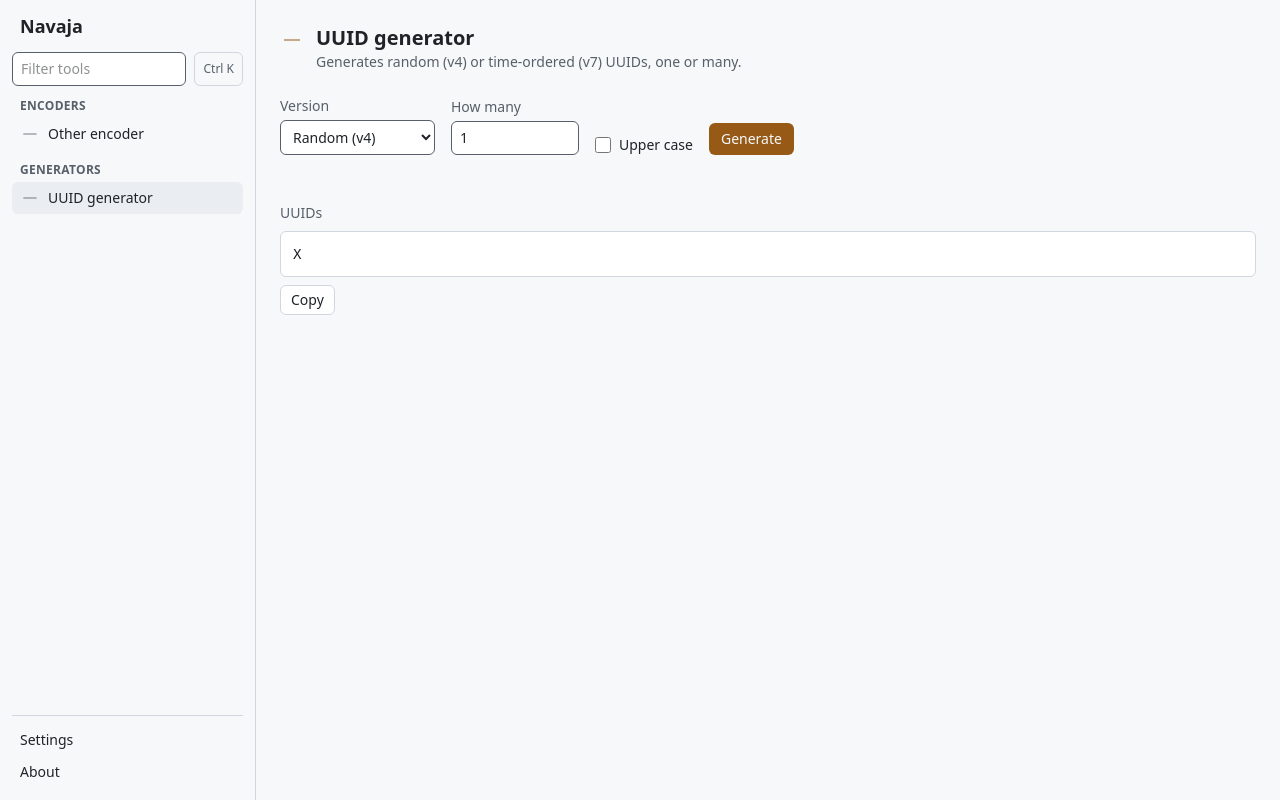
Test: shell › says so when a copy fails
Expected: the text "X" is shown, [280,231,1256,277]
Step 1. Click the button "Copy" → (307, 300), box [280,285,335,315]
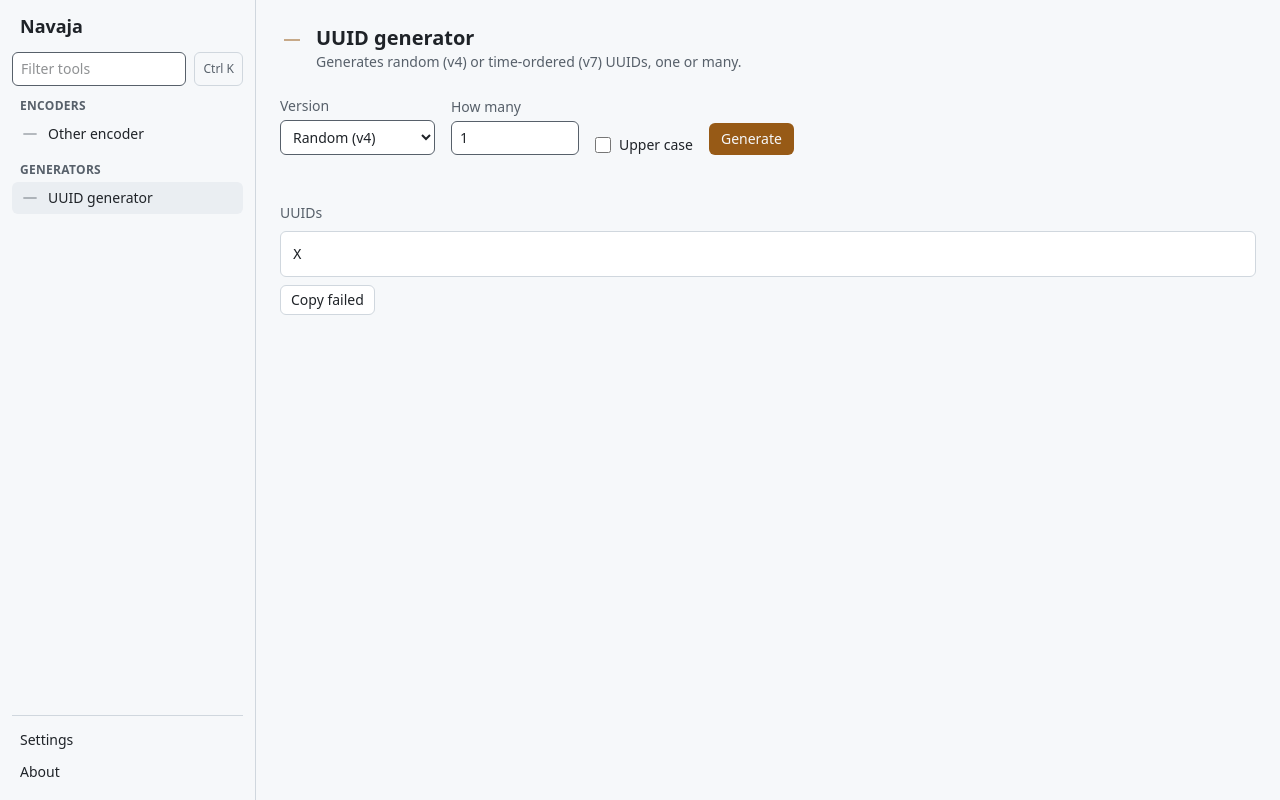
Expected: the button "Copy failed" is shown, [280,285,375,315]
